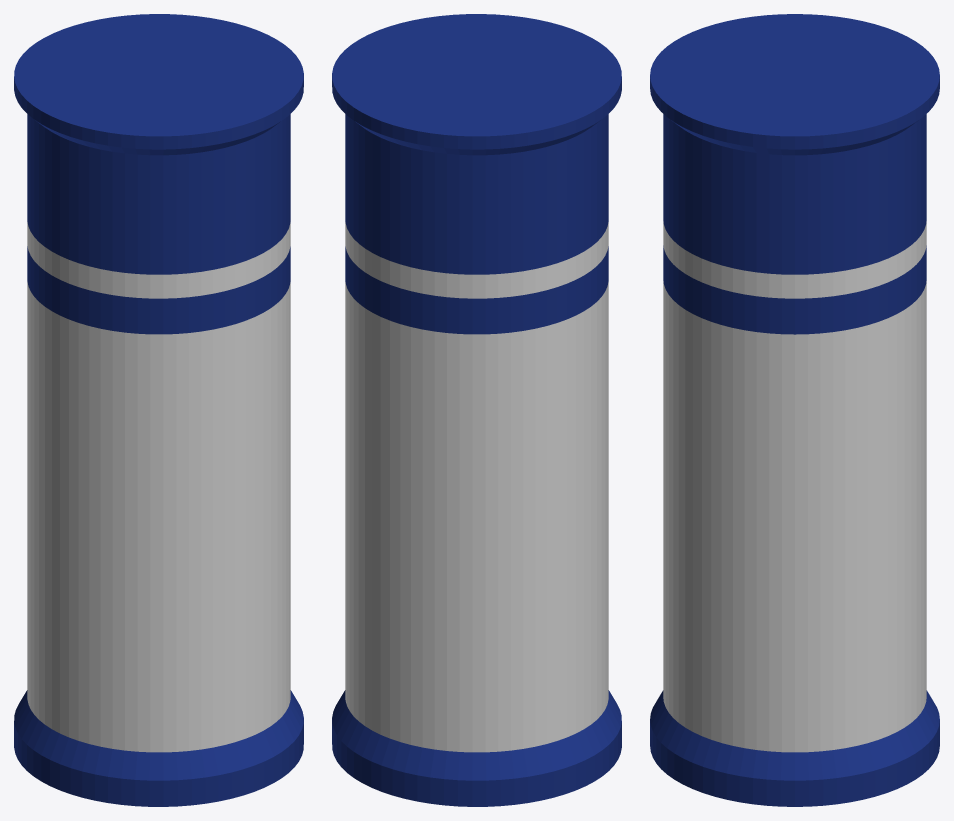
Rendered from wall_2_pillard.glb.
The picture shows the model from 3 angles, left to right: view 1: azimuth 30°, elevation 25°; view 2: azimuth 150°, elevation 25°; view 3: azimuth 270°, elevation 25°; orthographic projection.
Parts seen in each view (by area): view 1: Circle; view 2: Circle; view 3: Circle.
Boxes of the visible parts, left/top/right/bottom form: Circle: left=14, top=14, right=303, bottom=806; Circle: left=332, top=14, right=621, bottom=806; Circle: left=650, top=14, right=939, bottom=806.
Size of the model in its own units: 1.1 by 2.81 by 1.1.
